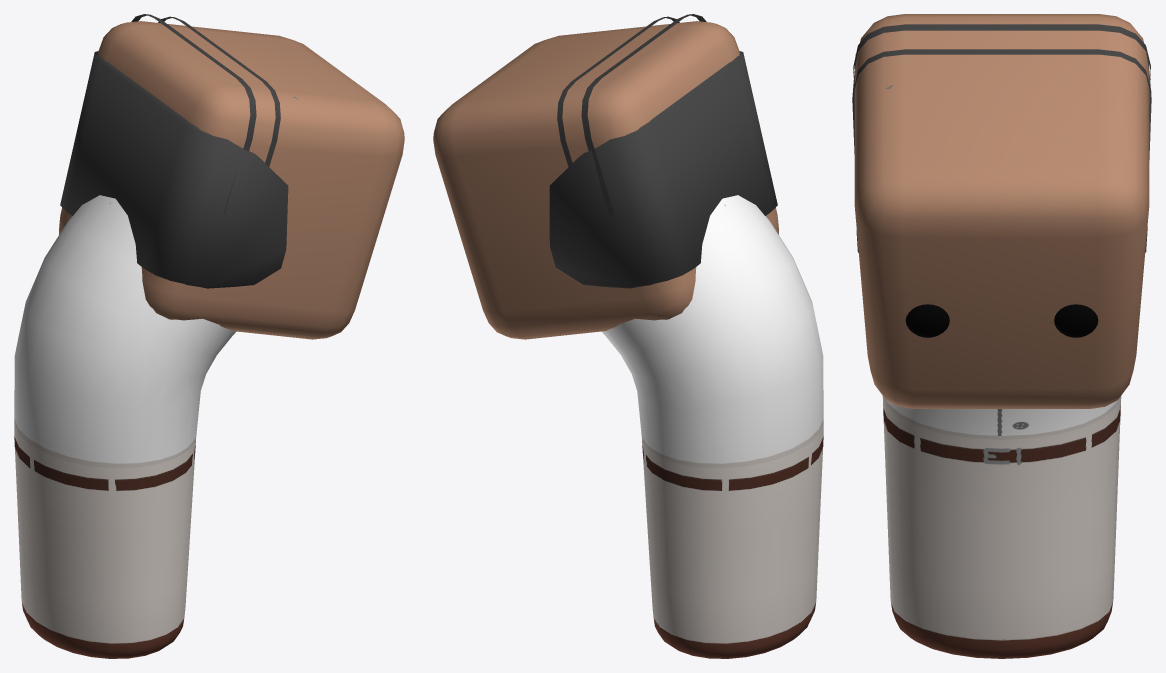
The model's file is Old.FBX.
3 views of the same model, side by side, from view 1: azimuth 30°, elevation 25°; view 2: azimuth 150°, elevation 25°; view 3: azimuth 270°, elevation 25° (orthographic). The views are drawn at different scales.
Visible parts, largest first — view 1: Teen002; view 2: Teen002; view 3: Teen002.
Part boxes in pixels (x1=…): Teen002: x1=14, y1=14, x2=404, y2=658; Teen002: x1=433, y1=14, x2=823, y2=658; Teen002: x1=852, y1=14, x2=1151, y2=658.
Size of the model in its own units: 90.07 by 146 by 60.56.
